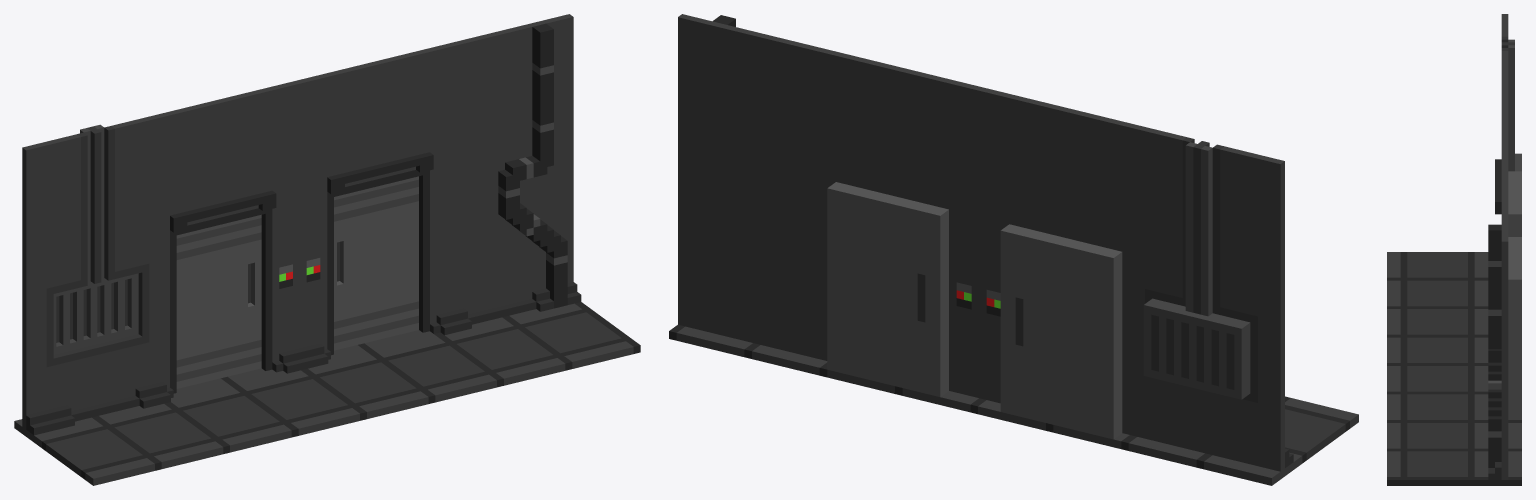
Rendered from exparebrium_1.glb.
The picture shows the model from 3 angles, left to right: view 1: azimuth 30°, elevation 25°; view 2: azimuth 150°, elevation 25°; view 3: azimuth 270°, elevation 25°; orthographic projection. The views are drawn at different scales.
Parts seen in each view (by area): view 1: ObjObject.001; view 2: ObjObject.001; view 3: ObjObject.001.
Boxes of the visible parts, bbox=[...] form: ObjObject.001: bbox=[14, 14, 640, 485]; ObjObject.001: bbox=[669, 14, 1358, 485]; ObjObject.001: bbox=[1387, 14, 1521, 485].
Bounding box in the file's own units: 8 × 4 × 2.
Materials: 1 (1 with a texture image).
